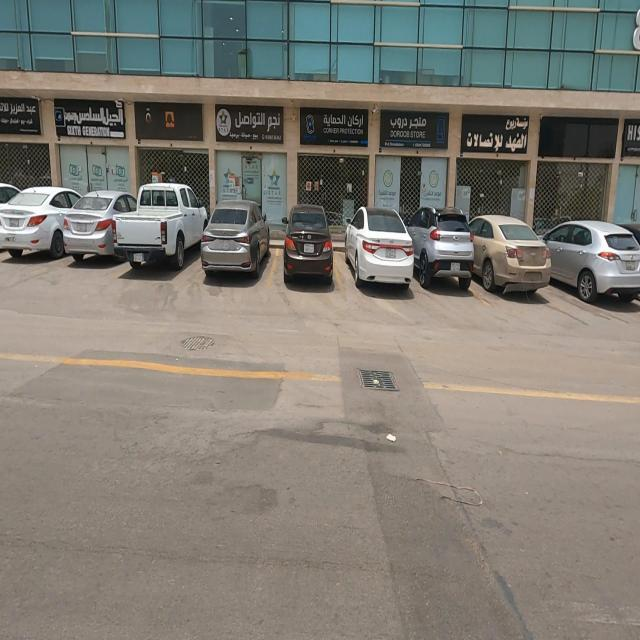debris: (503, 86, 640, 196), (368, 397, 414, 481)
